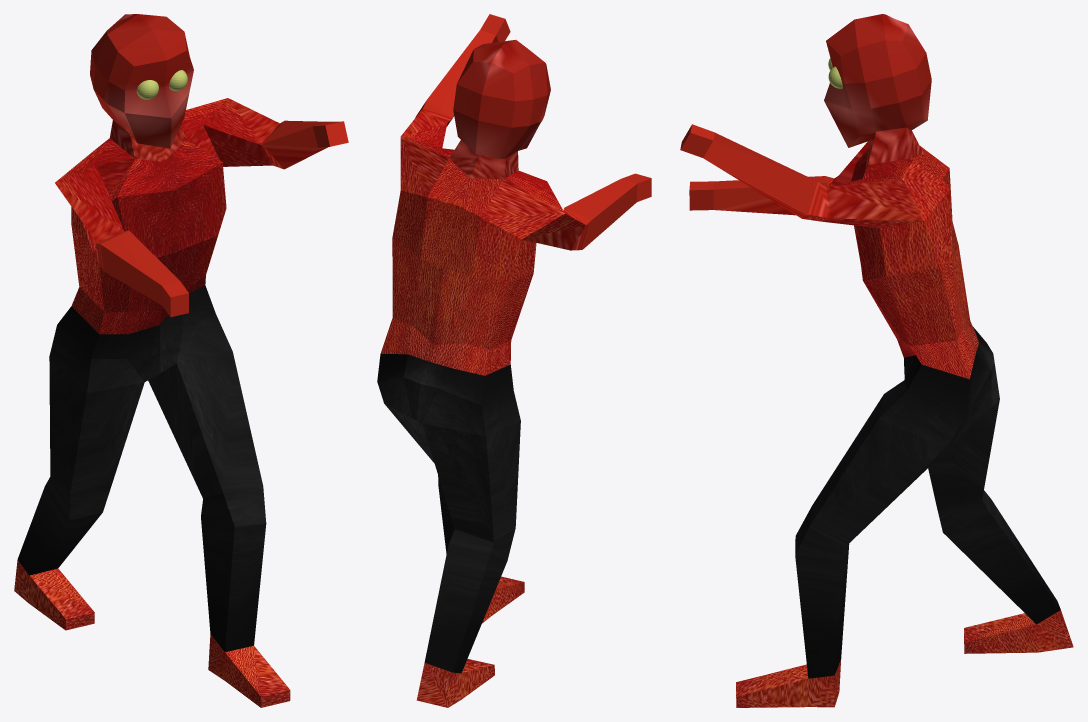
File: laySheary_000024.obj
The picture shows the model from 3 angles, left to right: view 1: azimuth 30°, elevation 25°; view 2: azimuth 150°, elevation 25°; view 3: azimuth 270°, elevation 25°; orthographic projection. The views are drawn at different scales.
Visible parts, largest first — view 1: Cube; view 2: Cube; view 3: Cube.
Part boxes in pixels (x1,y1,x2,y2): Cube: [14, 14, 348, 707]; Cube: [377, 14, 651, 707]; Cube: [680, 14, 1073, 707].
Bounding box in the file's own units: 5.2 × 15.81 × 8.61.
Materials: 3 (2 with a texture image).
